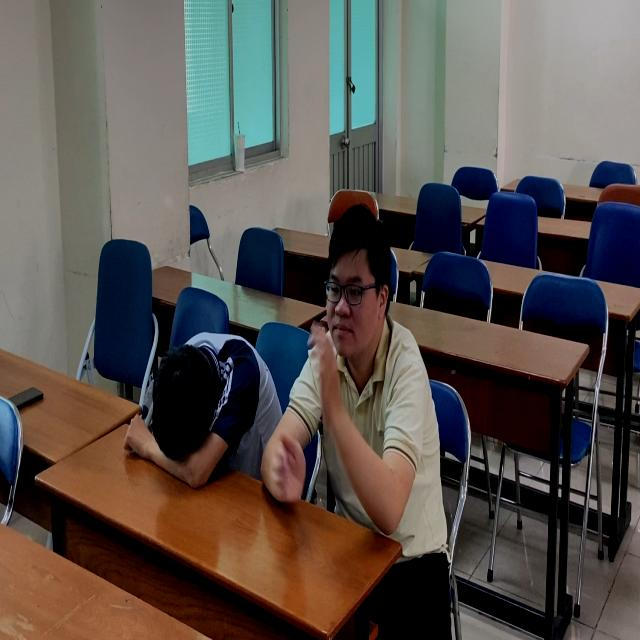raise_hand: (266, 205, 431, 531)
sleep: (118, 329, 275, 496)
